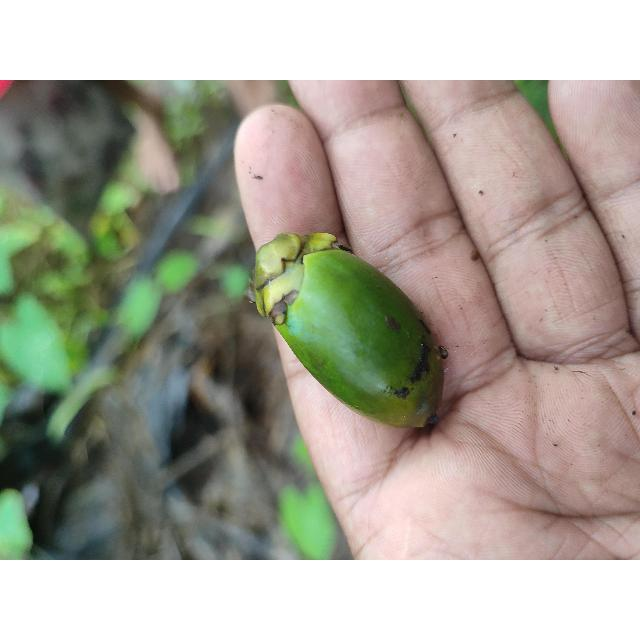damaged: (250, 234, 444, 431)
